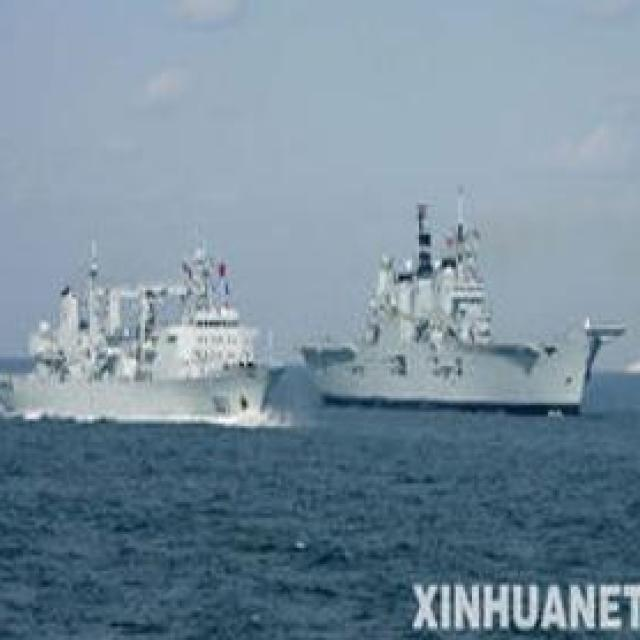navalvessels: (303, 182, 606, 409), (4, 230, 273, 426)
